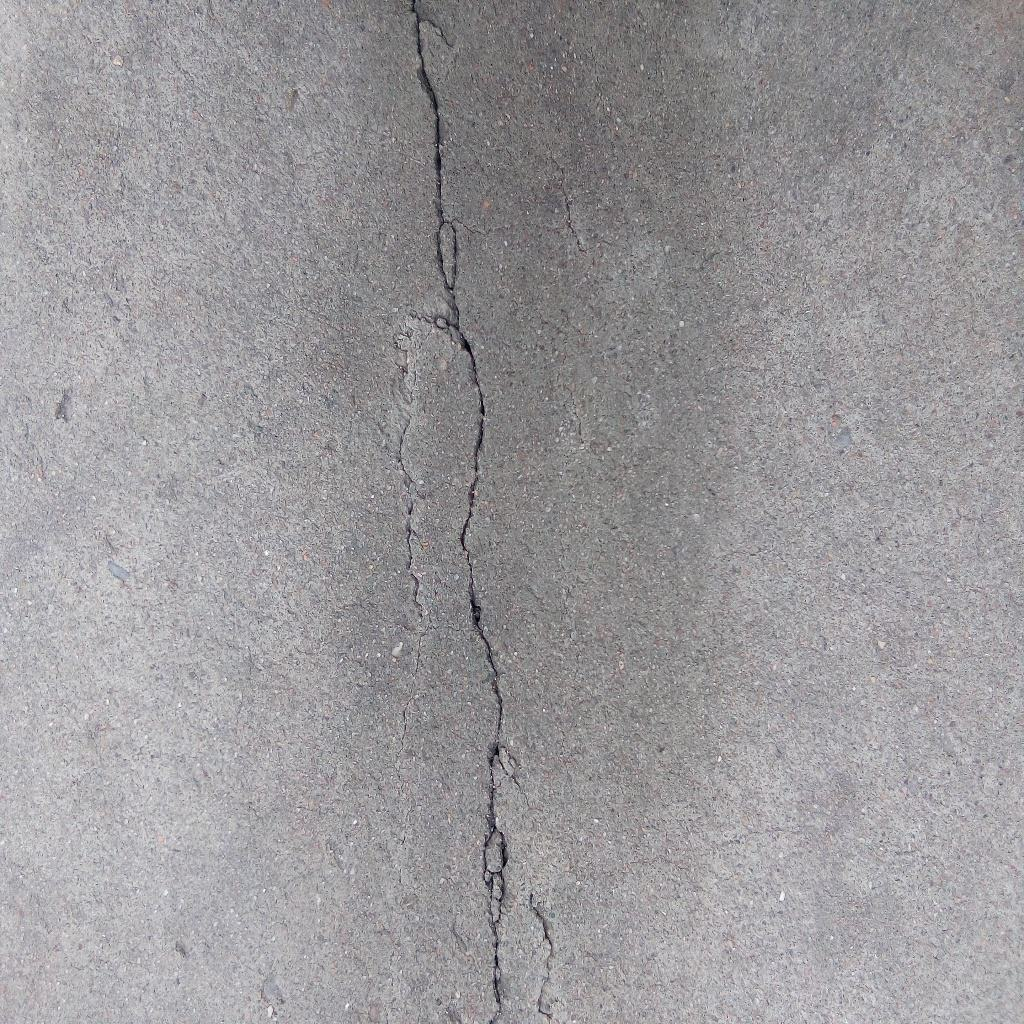Crack: (406, 1, 510, 1024), (527, 892, 555, 1024)
